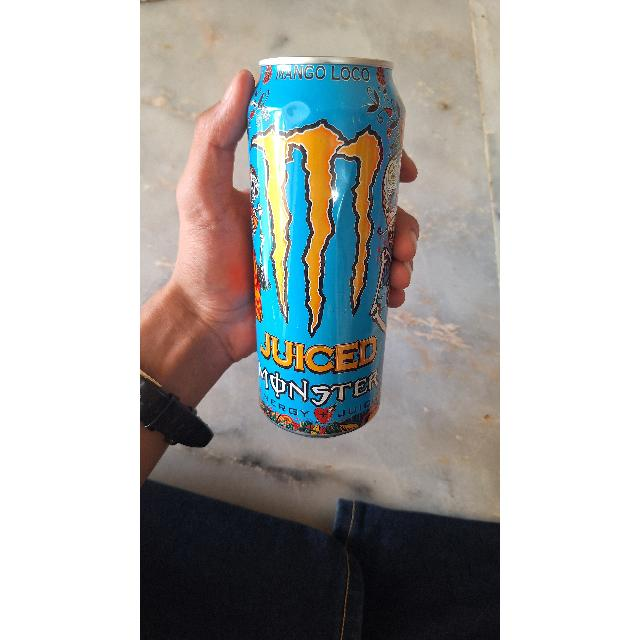Monster Mango Loco: (240, 55, 400, 437)
